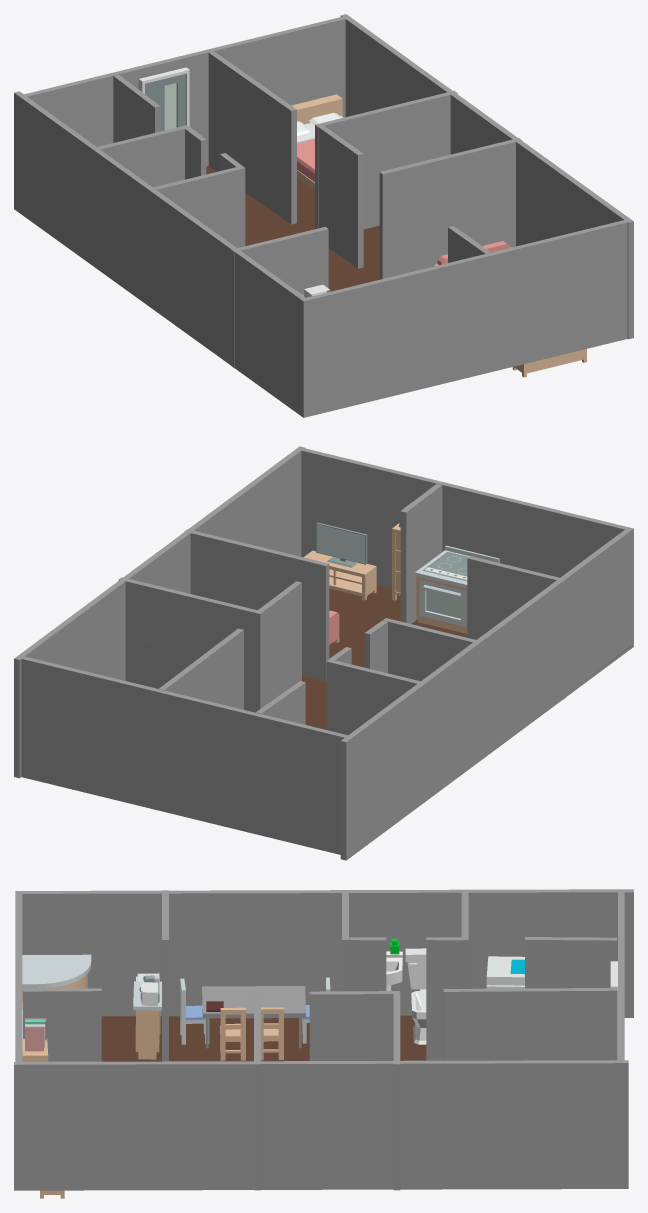
Rendered from furnished_apartment.fbx.
The picture shows the model from 3 angles, top to bottom: view 1: azimuth 30°, elevation 25°; view 2: azimuth 150°, elevation 25°; view 3: azimuth 270°, elevation 25°; orthographic projection. The views are drawn at different scales.
Visible parts, largest first — view 1: pCube41, pCube43, pCube42, pCube40, pCube1, pCube10, pCube2, pCube16, pPlane1, pCube3, pCube7, pCube4 (+8 smaller); view 2: pCube40, pCube43, pCube41, pCube42, pCube2, pCube1, pCube7, pPlane1, pCube4, pCube16, kitchenStoveElectric, pCube29 (+7 smaller); view 3: pCube42, pCube43, pCube10, pPlane1, pCube16, pCube29, pCube11, pCube5, pCube23, kitchenCabinetCornerRound, pCube6, toiletSquare (+15 smaller).
Part boxes in pixels (x1,y1,x2,y2): pCube41: [301, 220, 627, 417]; pCube43: [14, 91, 306, 415]; pCube42: [340, 14, 633, 339]; pCube40: [22, 16, 348, 166]; pCube1: [379, 138, 521, 279]; pCube10: [208, 51, 296, 224]; pCube2: [315, 90, 457, 229]; pCube16: [318, 125, 363, 268]; pPlane1: [206, 166, 379, 412]; pCube3: [148, 166, 245, 248]; pCube7: [231, 226, 328, 368]; pCube4: [93, 125, 189, 187]; pCube40: [18, 655, 349, 854]; pCube43: [340, 529, 631, 860]; pCube41: [301, 448, 633, 648]; pCube42: [14, 446, 304, 778]; pCube2: [118, 577, 263, 712]; pCube1: [184, 529, 329, 681]; pCube7: [467, 556, 565, 699]; pPlane1: [302, 585, 630, 729]; pCube4: [326, 659, 424, 735]; pCube16: [258, 581, 301, 706]; kitchenStoveElectric: [415, 545, 499, 633]; pCube29: [400, 484, 442, 623]; pCube42: [14, 1060, 628, 1190]; pCube43: [22, 889, 633, 1017]; pCube10: [443, 988, 617, 1060]; pPlane1: [101, 1015, 426, 1061]; pCube16: [309, 991, 395, 1060]; pCube29: [23, 988, 101, 1061]; pCube11: [525, 937, 617, 988]; pCube5: [426, 937, 462, 1060]; pCube23: [202, 986, 305, 1018]; kitchenCabinetCornerRound: [22, 954, 91, 1009]; pCube6: [349, 937, 386, 991]; toiletSquare: [405, 948, 426, 1044].
Size of the model in its own units: 37.33 by 15.1 by 55.72.
